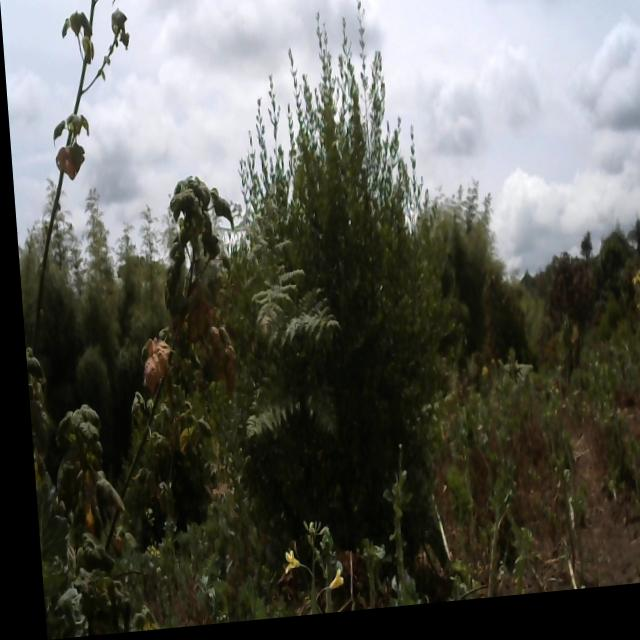Salix alba: (195, 0, 465, 569)
other: (1, 0, 230, 640)
